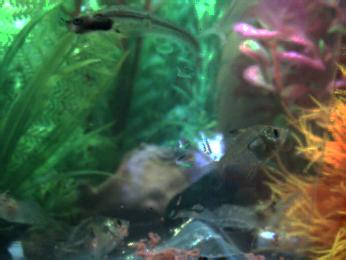X-ray fish: (204, 123, 290, 182), (49, 214, 132, 260)
glassfish: (59, 3, 206, 76)
siberian prawn: (172, 189, 303, 232), (1, 188, 80, 235)
